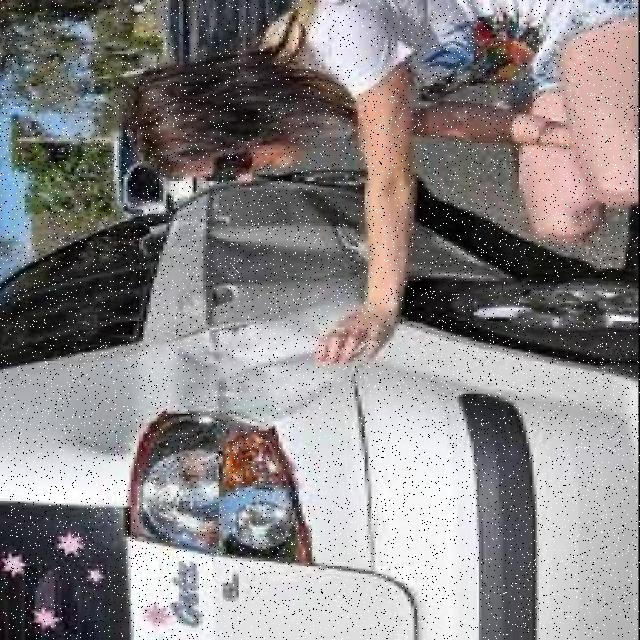damage: (82, 309, 341, 461), (190, 213, 369, 296)
